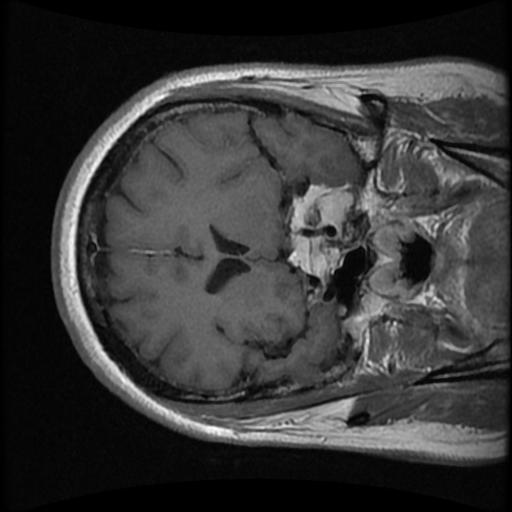meningioma: (284, 181, 354, 281)
